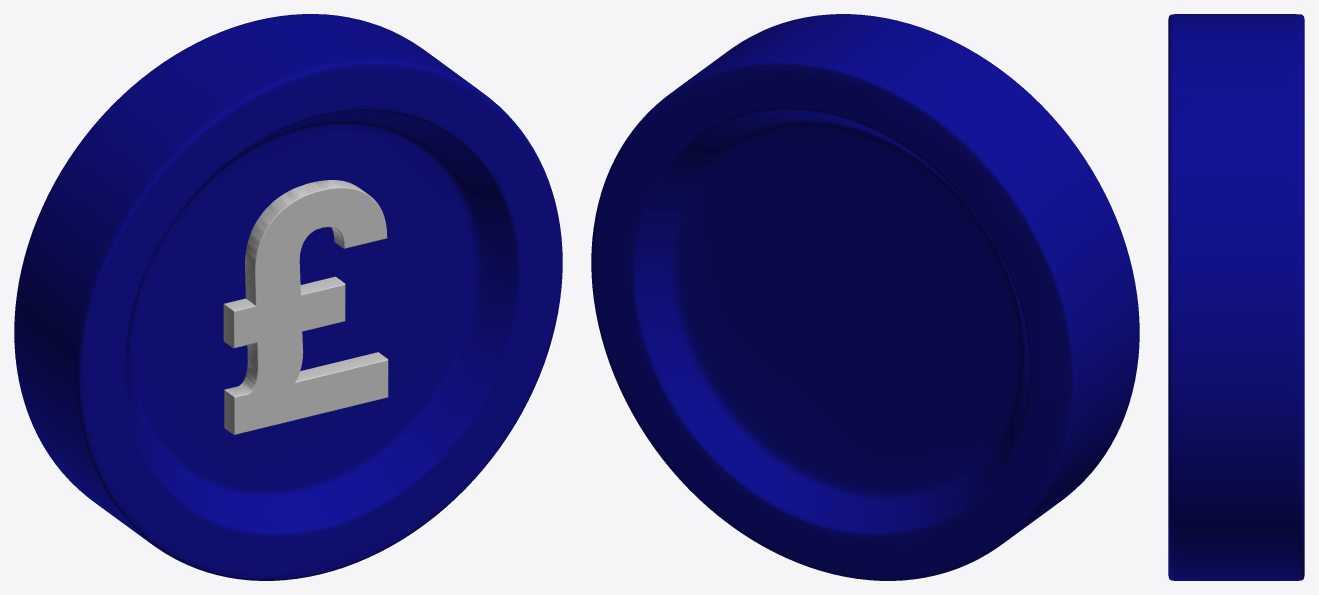
Rendered from pound.glb.
The picture shows the model from 3 angles, left to right: view 1: azimuth 30°, elevation 25°; view 2: azimuth 150°, elevation 25°; view 3: azimuth 270°, elevation 25°; orthographic projection.
Visible parts, largest first — view 1: Pound; view 2: Pound; view 3: Pound.
Part boxes in pixels (<box>): Pound: <box>14,14,562,580</box>; Pound: <box>591,14,1139,580</box>; Pound: <box>1168,14,1304,580</box>.
Bounding box in the file's own units: 1.86 × 1.86 × 0.448.
